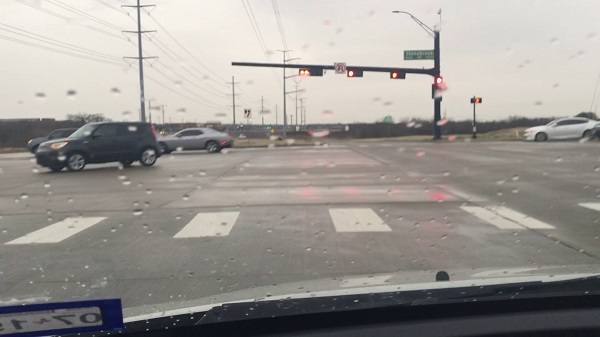car: (37, 119, 163, 171), (523, 112, 600, 142), (160, 127, 231, 153)
